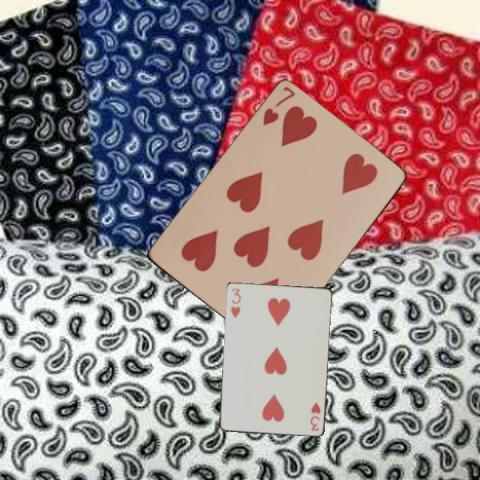3h: (227, 285, 242, 319), (308, 399, 321, 432)
7h: (259, 84, 297, 128)
